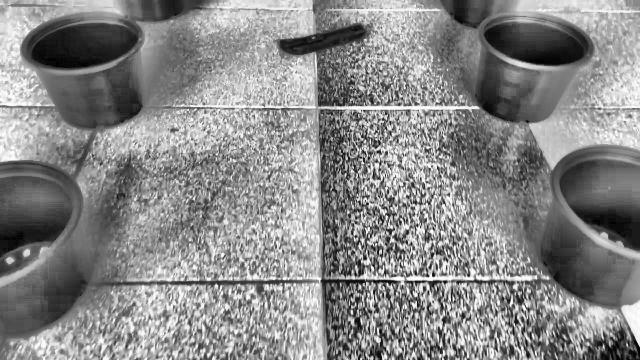pot: (538, 146, 640, 309), (0, 162, 91, 338), (20, 12, 146, 130), (474, 12, 595, 124)
